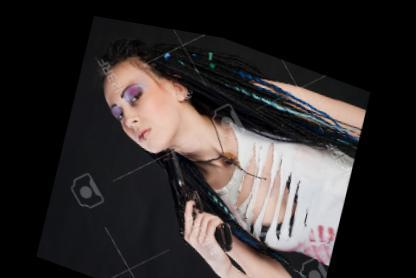pistol: (146, 120, 255, 253)
